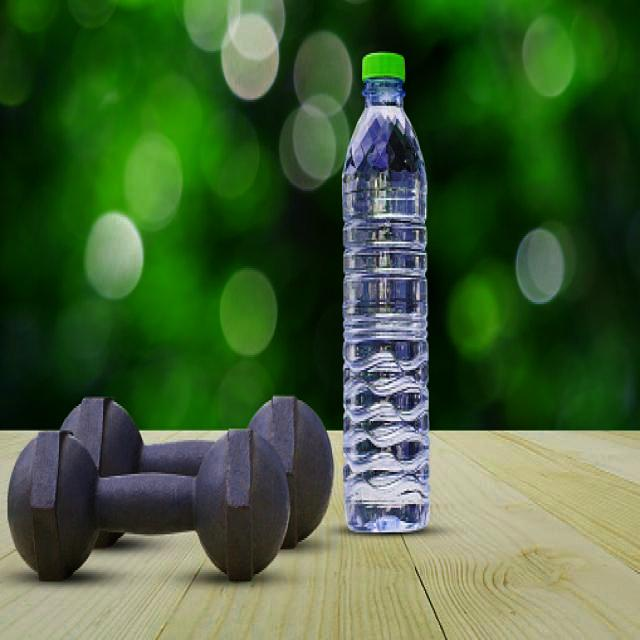bottle: (341, 53, 430, 534)
